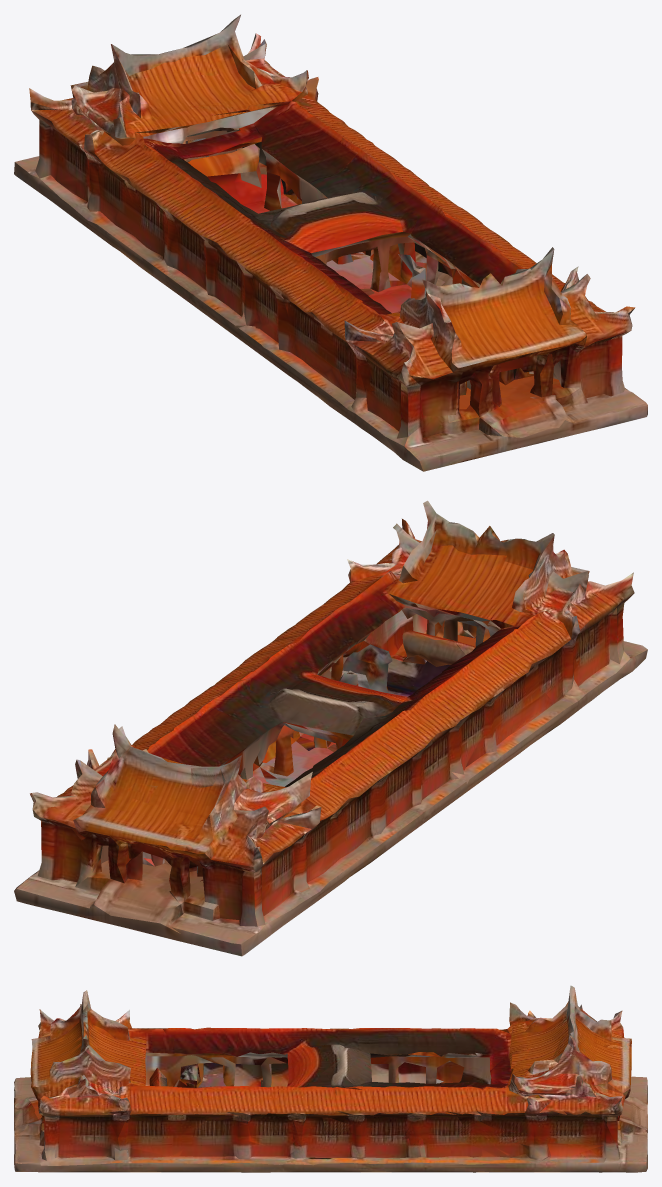
Rendered from lukang-longshan-temple.glb.
The picture shows the model from 3 angles, top to bottom: view 1: azimuth 30°, elevation 25°; view 2: azimuth 150°, elevation 25°; view 3: azimuth 270°, elevation 25°; orthographic projection. The views are drawn at different scales.
Parts seen in each view (by area): view 1: logan-textured.obj; view 2: logan-textured.obj; view 3: logan-textured.obj.
Part boxes in pixels (bbox=[...]): logan-textured.obj: bbox=[14, 14, 647, 471]; logan-textured.obj: bbox=[14, 500, 647, 956]; logan-textured.obj: bbox=[14, 985, 647, 1172].
Bounding box in the file's own units: 0.332 × 0.2081 × 1.
1 material, 1 textured.
